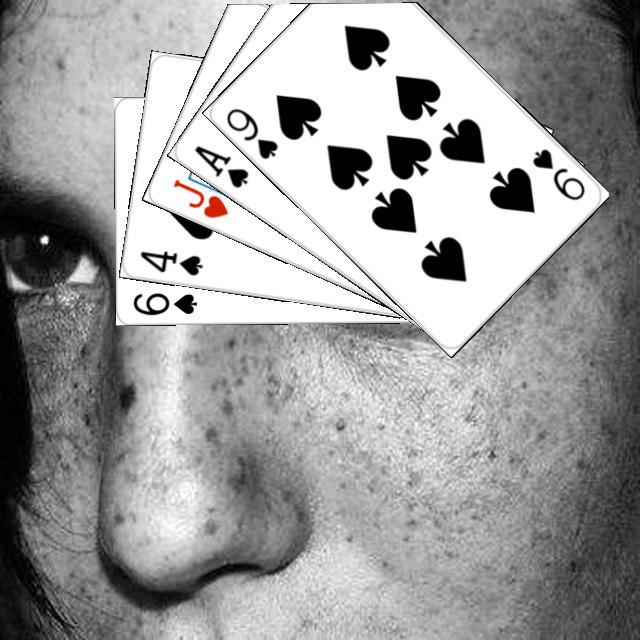4s: (135, 245, 205, 277)
6s: (128, 288, 198, 317)
9s: (527, 143, 587, 202), (221, 102, 280, 161)
As: (189, 140, 251, 190)
Jh: (168, 174, 230, 220)
